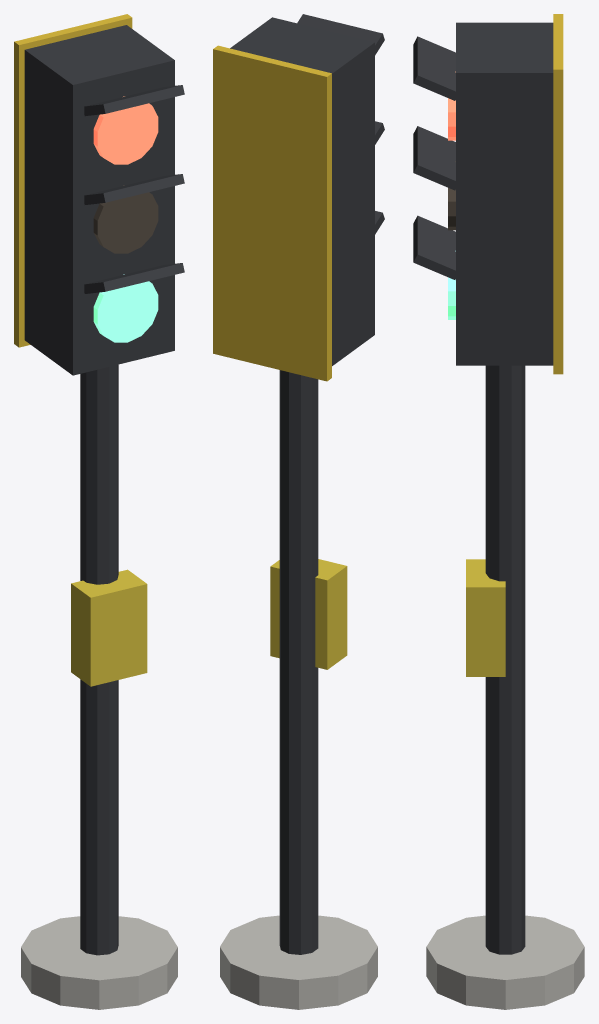
Rendered from traffic_light.glb.
The picture shows the model from 3 angles, left to right: view 1: azimuth 30°, elevation 25°; view 2: azimuth 150°, elevation 25°; view 3: azimuth 270°, elevation 25°; orthographic projection.
Parts seen in each view (by area): view 1: traffic_light; view 2: traffic_light; view 3: traffic_light.
Part boxes in pixels (box(x1,y1,x2,y2)): traffic_light: box(14, 14, 184, 1009); traffic_light: box(213, 14, 384, 1009); traffic_light: box(413, 14, 584, 1009).
Size of the model in its own units: 0.48 by 3.13 by 0.5198.
